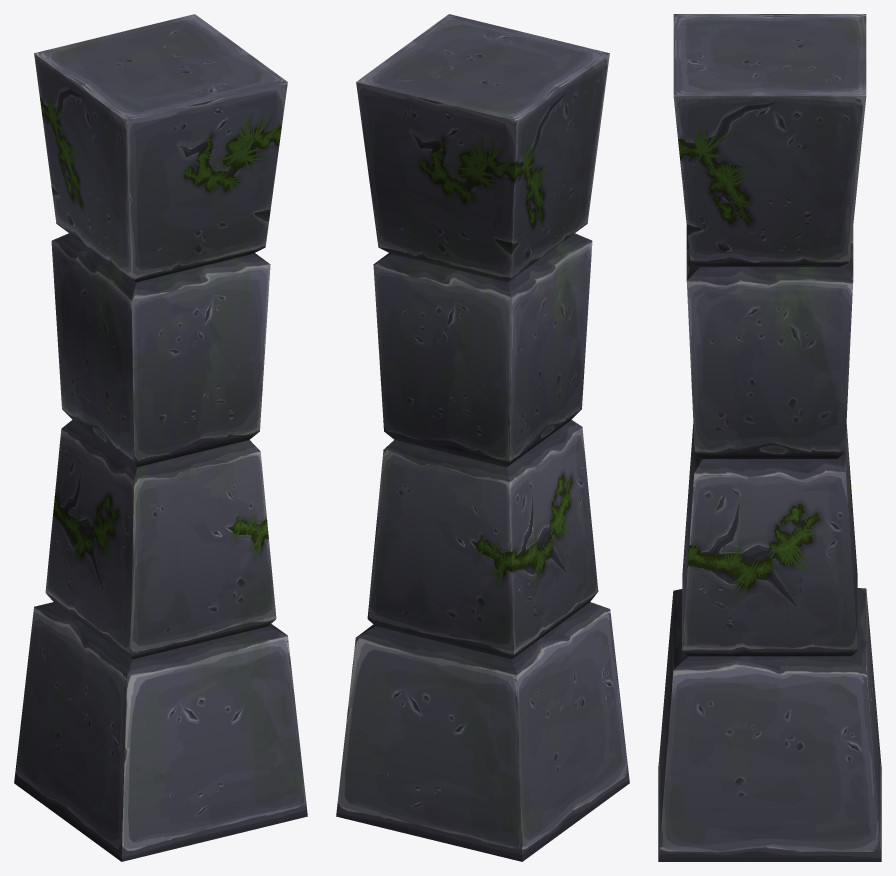
The model's file is MOD_Column_01_med.fbx.
3 renders of one model, left to right at view 1: azimuth 30°, elevation 25°; view 2: azimuth 150°, elevation 25°; view 3: azimuth 270°, elevation 25°, orthographic. The views are drawn at different scales.
Parts seen in each view (by area): view 1: MOD_Column_01_med; view 2: MOD_Column_01_med; view 3: MOD_Column_01_med.
Boxes of the visible parts, x1,y1,x2,y2 form: MOD_Column_01_med: (14,14,307,861); MOD_Column_01_med: (336,14,629,861); MOD_Column_01_med: (658,14,881,861).
Size of the model in its own units: 104 by 390 by 104.
